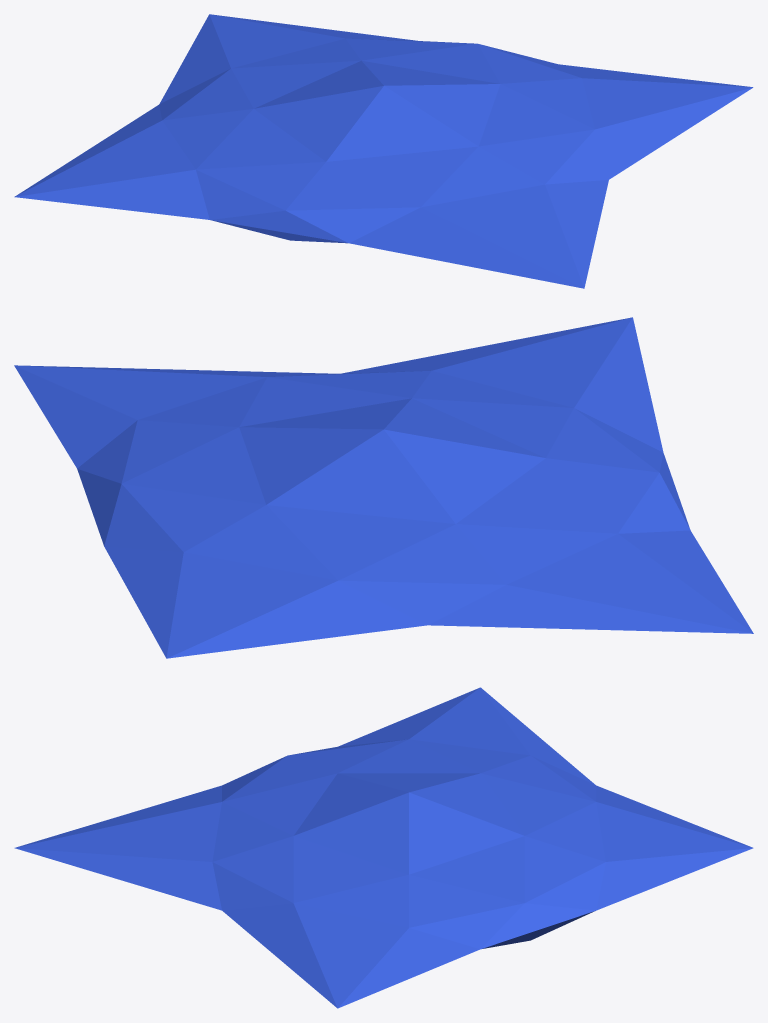
File: characterBallMesh.glb
The picture shows the model from 3 angles, top to bottom: view 1: azimuth 30°, elevation 25°; view 2: azimuth 150°, elevation 25°; view 3: azimuth 270°, elevation 25°; orthographic projection. The views are drawn at different scales.
Parts seen in each view (by area): view 1: characterball; view 2: characterball; view 3: characterball.
Boxes of the visible parts, left/top/right/bottom form: characterball: left=14, top=14, right=753, bottom=288; characterball: left=14, top=317, right=753, bottom=658; characterball: left=14, top=687, right=753, bottom=1008.
Size of the model in its own units: 7.5 by 1.22 by 7.3.
